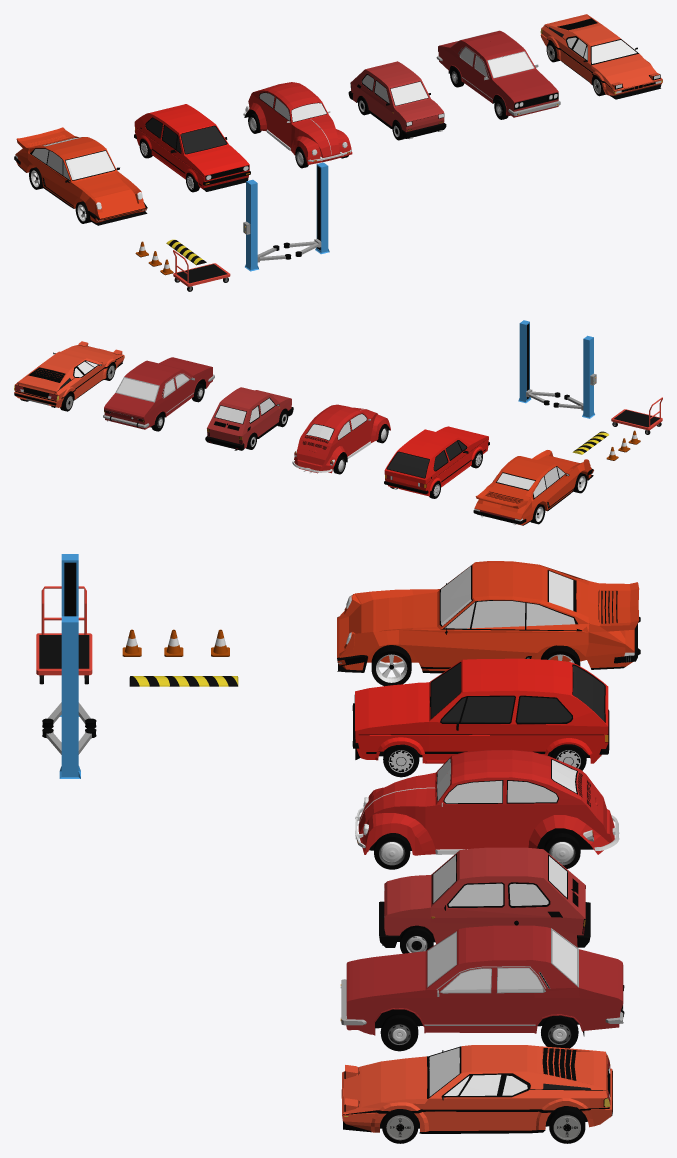
File: LowPolyCars.fbx
3 views of the same model, one above another, from view 1: azimuth 30°, elevation 25°; view 2: azimuth 150°, elevation 25°; view 3: azimuth 270°, elevation 25° (orthographic). The views are drawn at different scales.
Visible parts, largest first — view 1: Porsche911, Cube.003, Cube, Cube.005, Cube.002, Cube.001, Cube.009, Circle.003, Cube.008; view 2: Porsche911, Cube.003, Cube, Cube.002, Cube.005, Cube.001, Circle.003, Cube.009, Cube.008; view 3: Porsche911, Cube.003, Cube, Cube.002, Cube.005, Cube.001, Cube.009, Cube.008, Circle.003, FrontLeftWheelMesh.003, Cylinder, FL.003 (+6 smaller).
Part boxes in pixels (x1,y1,x2,y2): Porsche911: (14, 127, 147, 225); Cube.003: (436, 30, 560, 117); Cube: (134, 104, 250, 191); Cube.005: (540, 14, 662, 99); Cube.002: (243, 82, 352, 164); Cube.001: (348, 61, 446, 138); Cube.009: (283, 162, 329, 256); Circle.003: (243, 179, 291, 271); Cube.008: (173, 250, 230, 291); Porsche911: (473, 450, 593, 525); Cube.003: (103, 357, 214, 429); Cube: (384, 426, 489, 496); Cube.002: (292, 404, 390, 473); Cube.005: (14, 341, 124, 407); Cube.001: (205, 387, 293, 450); Circle.003: (553, 335, 596, 418); Cube.009: (518, 320, 560, 405); Cube.008: (611, 397, 662, 434); Porsche911: (337, 561, 640, 673); Cube.003: (340, 925, 624, 1036); Cube: (352, 658, 609, 763); Cube.002: (355, 749, 619, 855); Cube.005: (341, 1045, 612, 1133); Cube.001: (379, 847, 590, 947); Cube.009: (42, 616, 96, 778); Cube.008: (36, 586, 92, 684); Circle.003: (42, 554, 96, 728); FrontLeftWheelMesh.003: (371, 645, 411, 686); Cylinder: (129, 676, 238, 686); FL.003: (380, 1014, 418, 1051).
Size of what is drawn, in the model's own units: 6580 by 954 by 3330.
